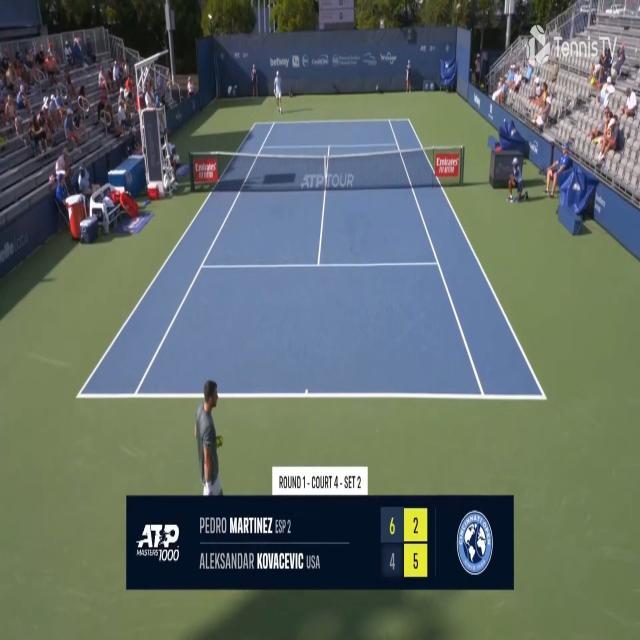tennis-player: (194, 372, 225, 497), (274, 70, 284, 115)
